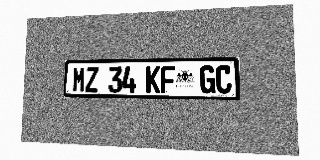3: (108, 66, 122, 93)
4: (122, 66, 136, 93)
C: (215, 65, 232, 94)
F: (161, 66, 175, 93)
G: (200, 65, 215, 94)
K: (146, 66, 160, 93)
M: (72, 67, 85, 92)
Z: (85, 67, 99, 93)
